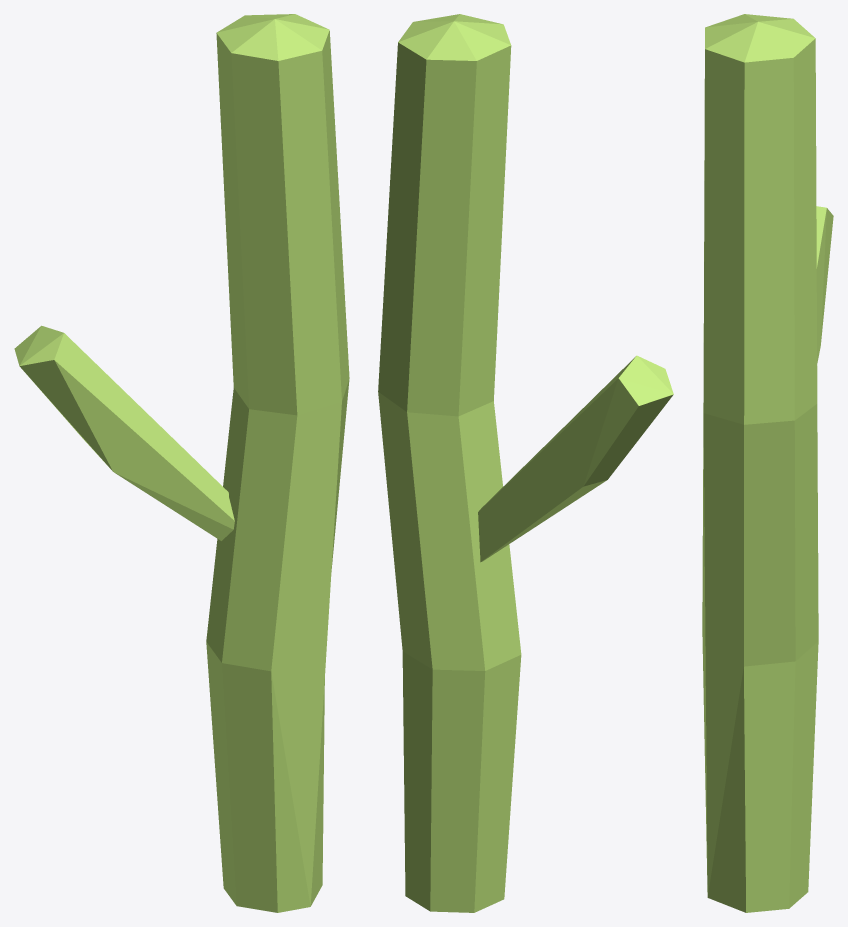
The model's file is cactus2.fbx.
3 renders of one model, left to right at view 1: azimuth 30°, elevation 25°; view 2: azimuth 150°, elevation 25°; view 3: azimuth 270°, elevation 25°, orthographic.
Parts seen in each view (by area): view 1: Cactus_b_m_03; view 2: Cactus_b_m_03; view 3: Cactus_b_m_03.
Boxes of the visible parts, box(x1,y1,x2,y2) form: Cactus_b_m_03: box(14, 14, 349, 912); Cactus_b_m_03: box(378, 14, 673, 912); Cactus_b_m_03: box(702, 14, 833, 912).
Size of the model in its own units: 37.19 by 99.76 by 272.
1 material, 1 textured.
